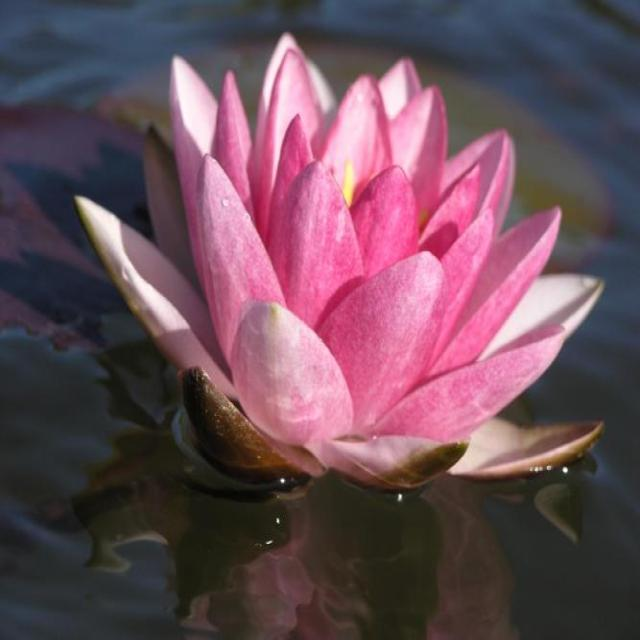water-lily: (50, 23, 618, 533)
